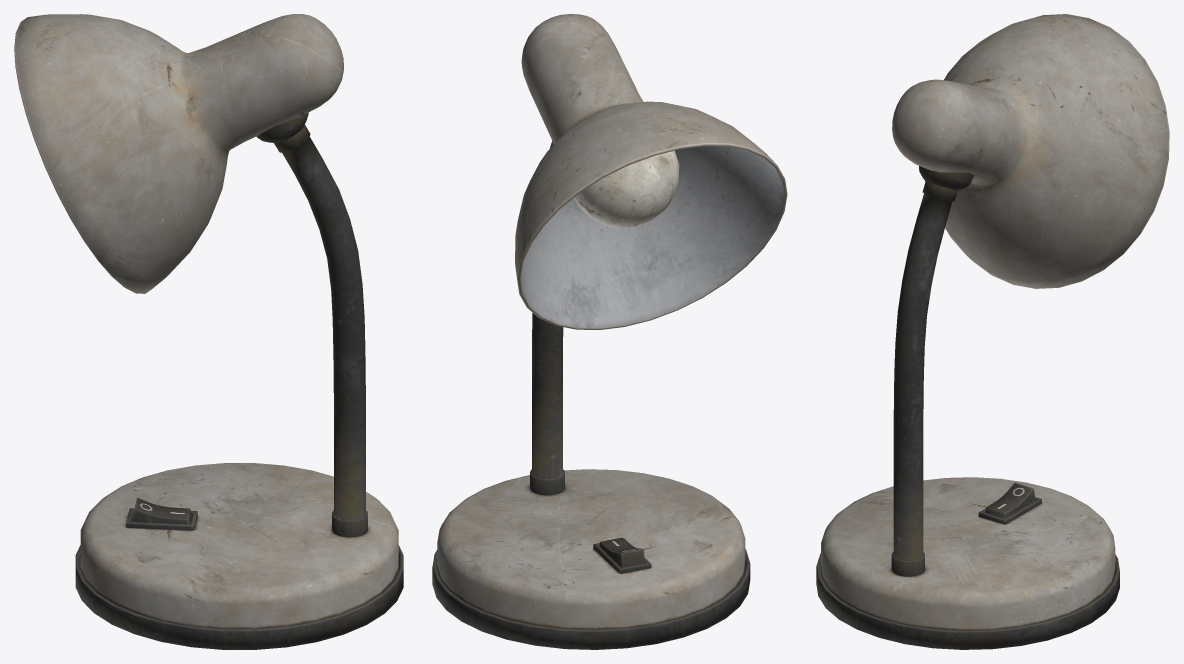
Rendered from lamp.glb.
3 views of the same model, side by side, from view 1: azimuth 30°, elevation 25°; view 2: azimuth 150°, elevation 25°; view 3: azimuth 270°, elevation 25° (orthographic). The views are drawn at different scales.
Visible parts, largest first — view 1: Desk_Lamp_bulb_0.003; view 2: Desk_Lamp_bulb_0.003; view 3: Desk_Lamp_bulb_0.003.
Boxes of the visible parts, box(x1,y1,x2,y2) form: Desk_Lamp_bulb_0.003: box(14, 14, 403, 649); Desk_Lamp_bulb_0.003: box(432, 14, 787, 649); Desk_Lamp_bulb_0.003: box(816, 14, 1169, 649).
Size of the model in its own units: 0.2127 by 0.3352 by 0.2066.
Materials: 3 (3 with a texture image).
